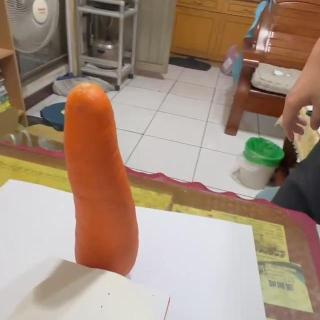carrot: (63, 82, 139, 276)
